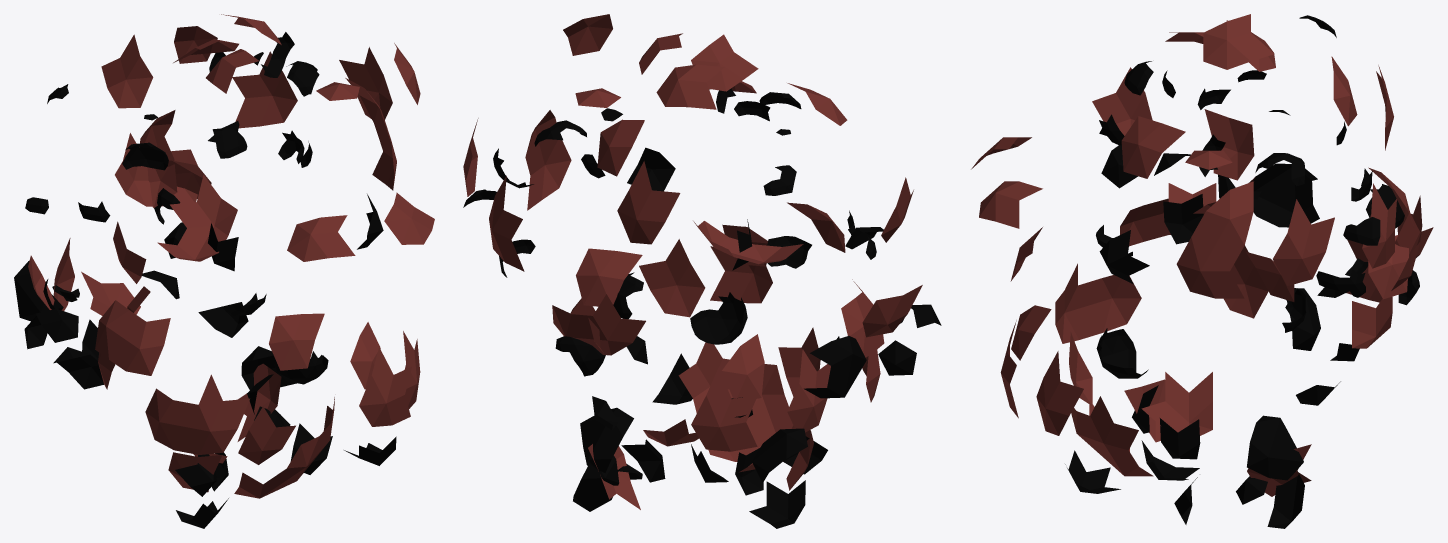
The model's file is explode.f0010.glb.
3 views of the same model, side by side, from view 1: azimuth 30°, elevation 25°; view 2: azimuth 150°, elevation 25°; view 3: azimuth 270°, elevation 25° (orthographic). The views are drawn at different scales.
Visible parts, largest first — view 1: Body.001; view 2: Body.001; view 3: Body.001.
Part boxes in pixels (x1,y1,x2,y2): Body.001: (14,14,434,528); Body.001: (463,14,941,528); Body.001: (971,14,1433,528).
Size of the model in its own units: 5.04 by 5.73 by 4.85.
Materials: 1 (1 with a texture image).
